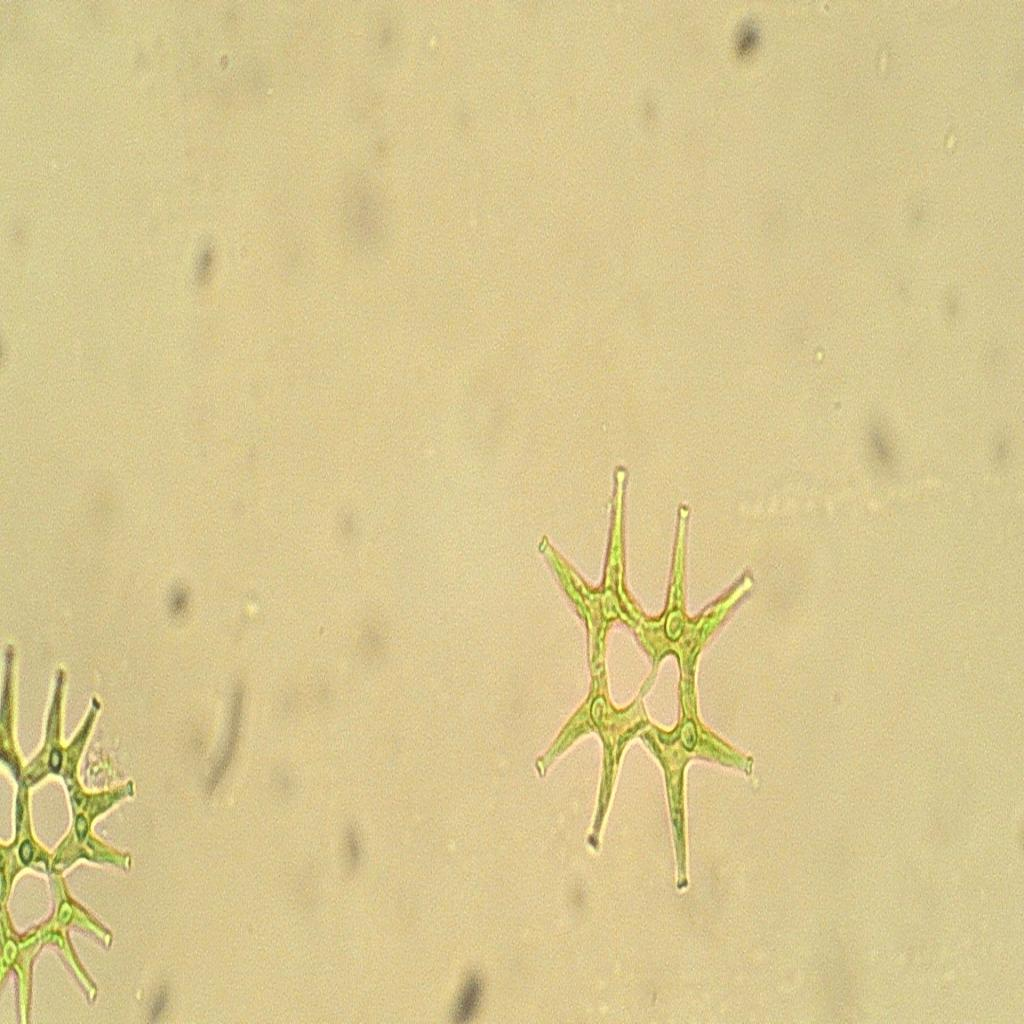Pediastrum_75FO: (514, 444, 774, 916)
